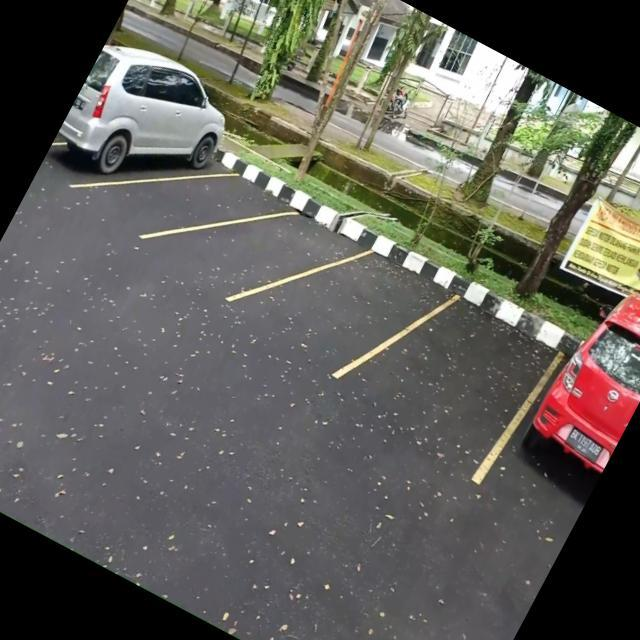empty: (343, 261, 566, 485), (266, 209, 445, 399), (204, 177, 346, 330), (125, 128, 266, 275)
occupied: (487, 309, 640, 521), (40, 46, 201, 217)
